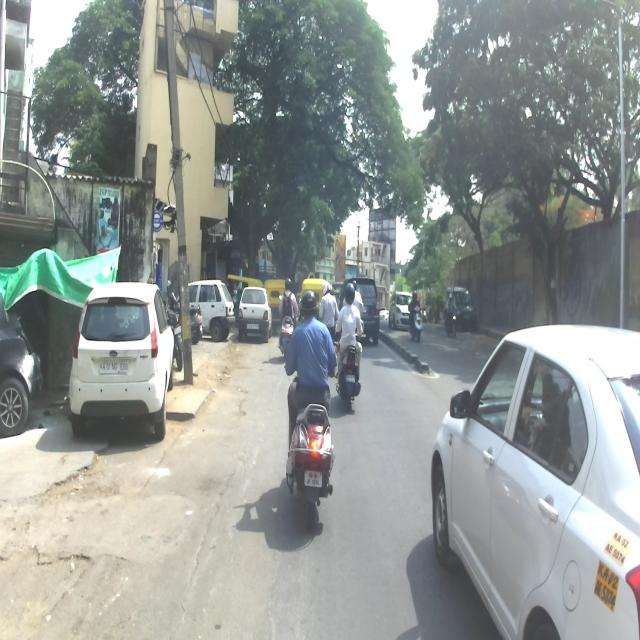car ahead at: (433, 328, 640, 640), (68, 283, 177, 457), (236, 281, 270, 347)
electric pole ahead at: (164, 0, 202, 402)
motorcycle ahead at: (282, 390, 340, 520)
